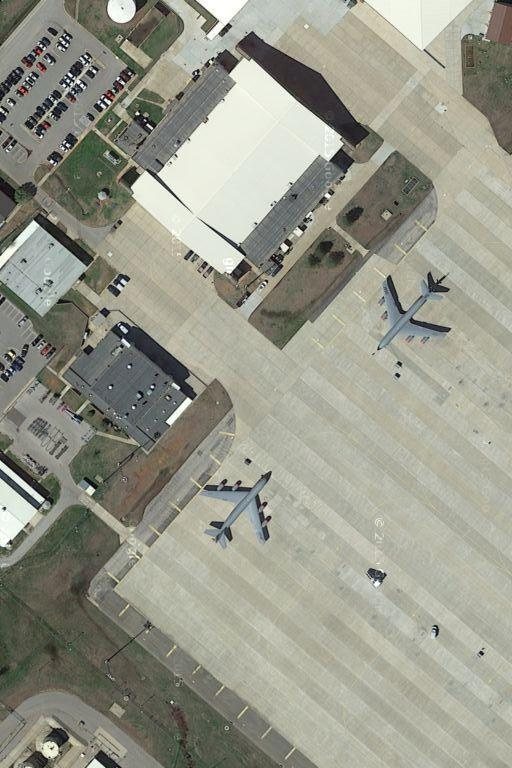KC-135: (374, 271, 452, 353), (200, 468, 278, 548)
